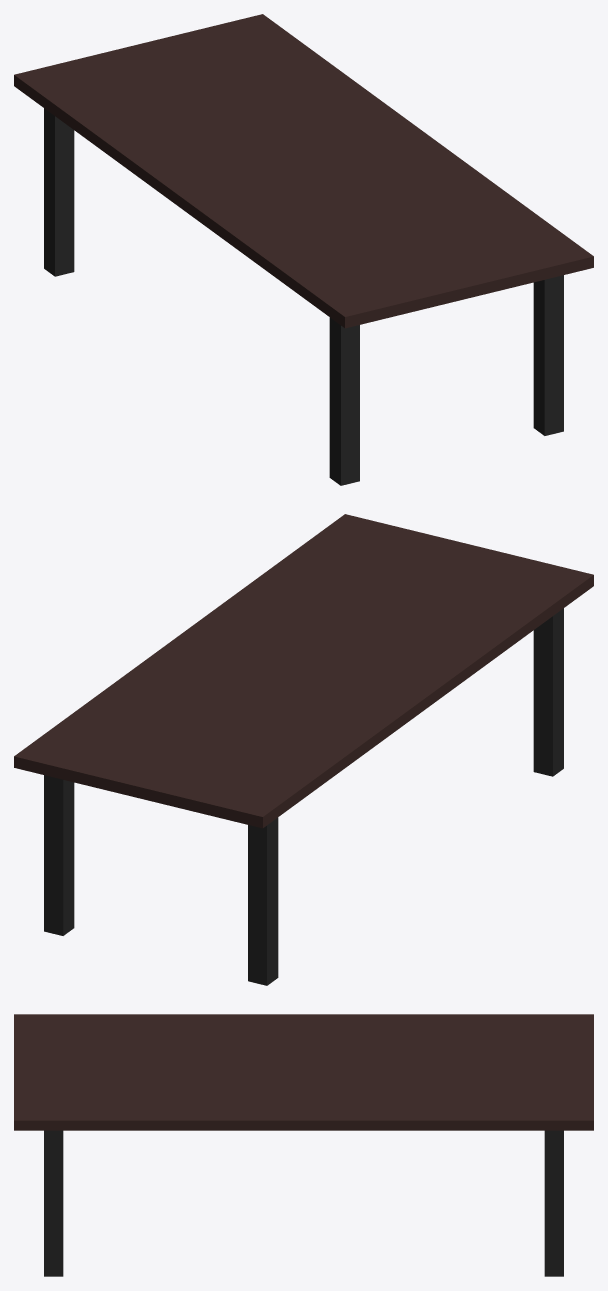
File: GrandeTable_34.fbx
3 renders of one model, top to bottom at view 1: azimuth 30°, elevation 25°; view 2: azimuth 150°, elevation 25°; view 3: azimuth 270°, elevation 25°, orthographic. The views are drawn at different scales.
Parts seen in each view (by area): view 1: pCube79, pCube77, pCube75, pCube78; view 2: pCube79, pCube75, pCube77, pCube76; view 3: pCube79, pCube78, pCube76.
Boxes of the visible parts, x1,y1,x2,y2 form: pCube79: (14, 14, 593, 328); pCube77: (329, 317, 359, 485); pCube75: (44, 108, 74, 276); pCube78: (533, 275, 563, 435); pCube79: (14, 514, 593, 828); pCube75: (248, 817, 278, 985); pCube77: (533, 608, 563, 776); pCube76: (44, 775, 74, 935); pCube79: (14, 1014, 593, 1130); pCube78: (44, 1130, 63, 1276); pCube76: (544, 1130, 563, 1276).
Bounding box in the file's own units: 53.95 × 38.21 × 124.
